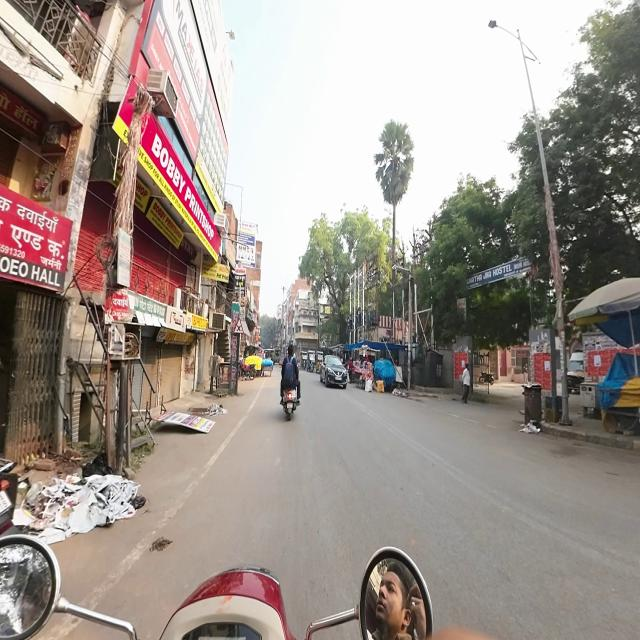Garbage: (20, 476, 82, 541), (79, 468, 137, 530), (524, 420, 540, 438)
